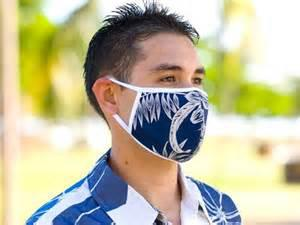OK: (114, 59, 210, 159)
